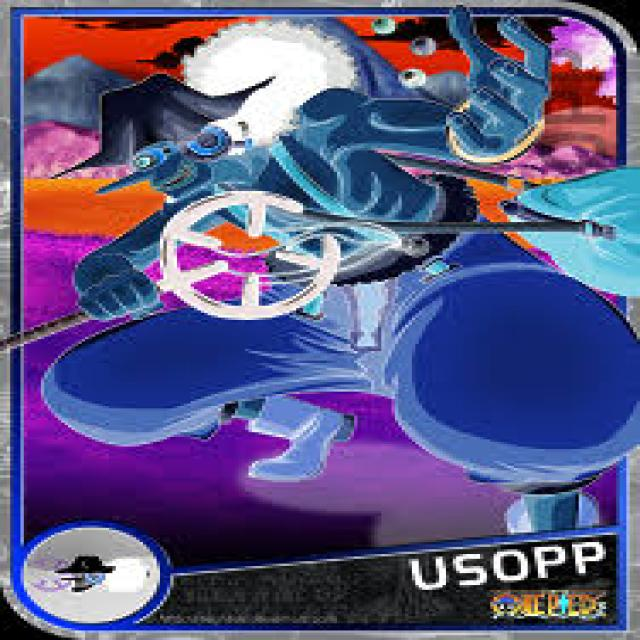Usopp: (41, 7, 640, 535)
